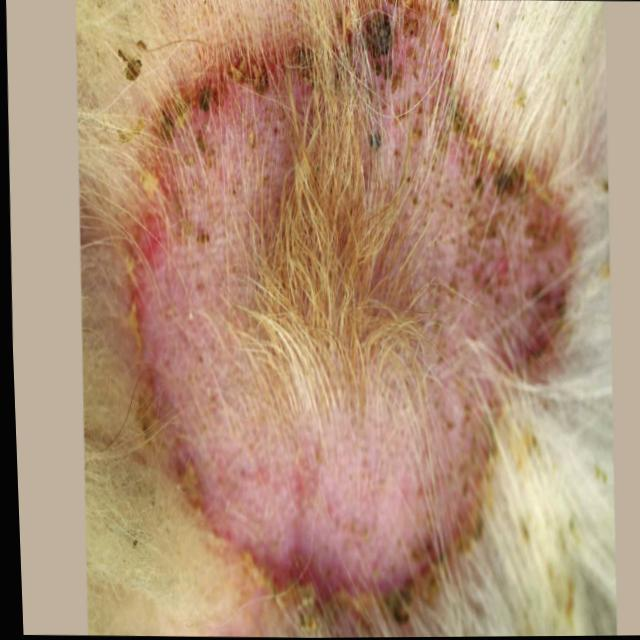viem da do vi khuan cho: (84, 0, 603, 640)
